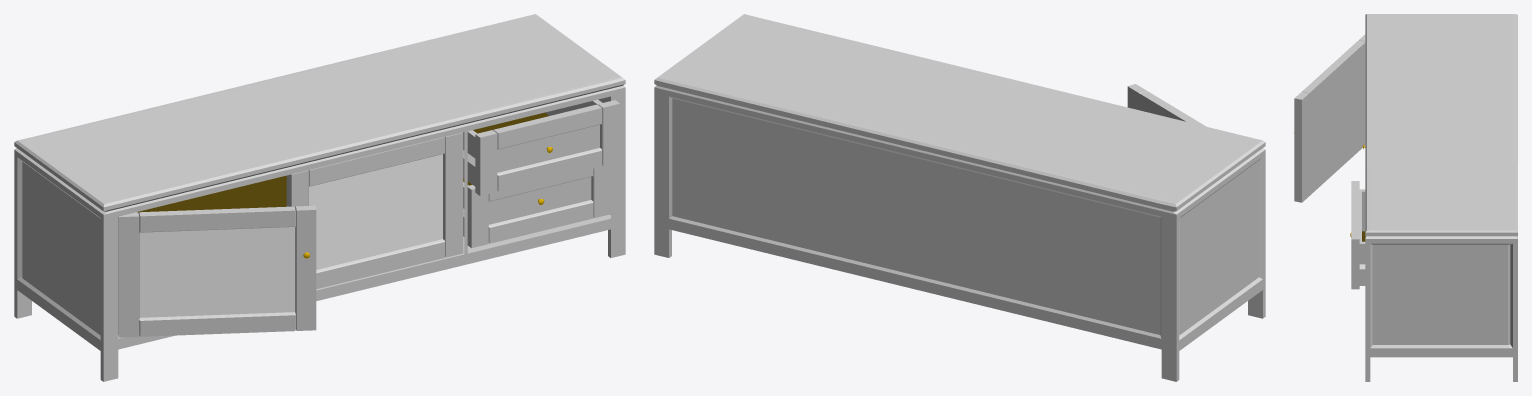
The picture shows the model from 3 angles, left to right: view 1: azimuth 30°, elevation 25°; view 2: azimuth 150°, elevation 25°; view 3: azimuth 270°, elevation 25°; orthographic projection. The views are drawn at different scales.
Visible parts, largest first — view 1: rack, doorLeft, doorRight, drawerUp, drawerDown, shelf; view 2: rack, doorLeft; view 3: rack, doorLeft, drawerUp.
Boxes of the visible parts, left/top/right/bottom form: rack: left=14, top=14, right=625, bottom=381; doorLeft: left=118, top=205, right=316, bottom=337; doorRight: left=286, top=132, right=463, bottom=288; drawerUp: left=463, top=99, right=620, bottom=195; drawerDown: left=463, top=164, right=610, bottom=248; shelf: left=137, top=175, right=286, bottom=212; rack: left=654, top=14, right=1265, bottom=381; doorLeft: left=1127, top=84, right=1205, bottom=126; rack: left=1365, top=14, right=1517, bottom=381; doorLeft: left=1294, top=34, right=1365, bottom=202; drawerUp: left=1350, top=181, right=1365, bottom=289.
Bounding box in the file's own units: 15.2 × 4.91 × 6.6.
